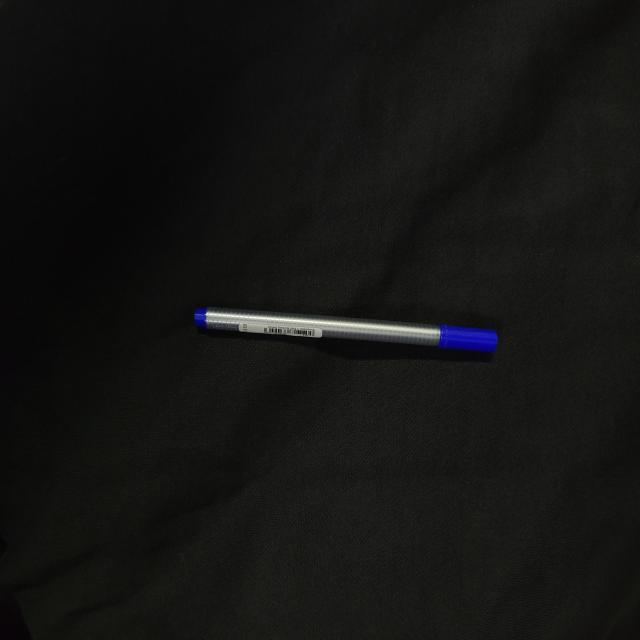caneta: (188, 286, 506, 376)
